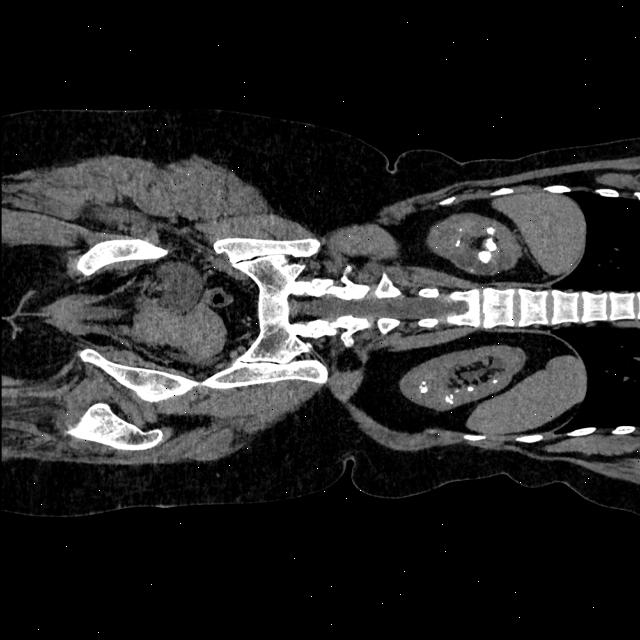kidneystone: (484, 239, 496, 251), (478, 252, 490, 264)
